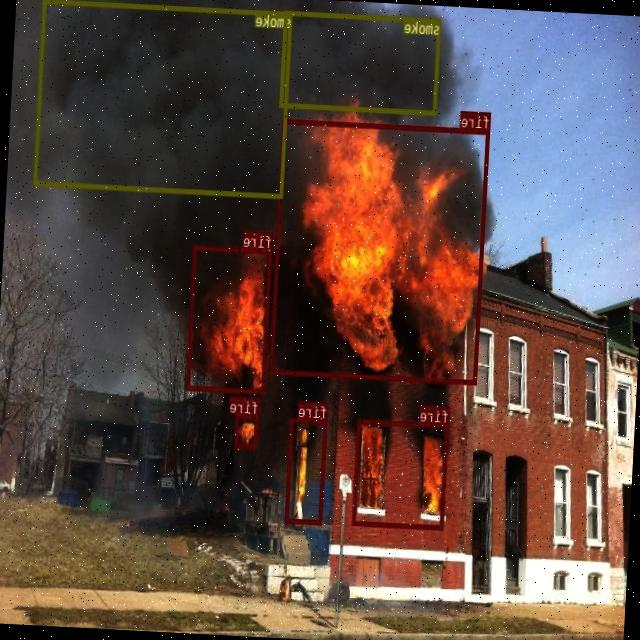fire: (270, 118, 491, 384), (187, 244, 273, 394), (352, 418, 450, 530), (286, 417, 328, 524), (234, 414, 260, 449)
smoke: (35, 0, 293, 198), (280, 10, 442, 115)
